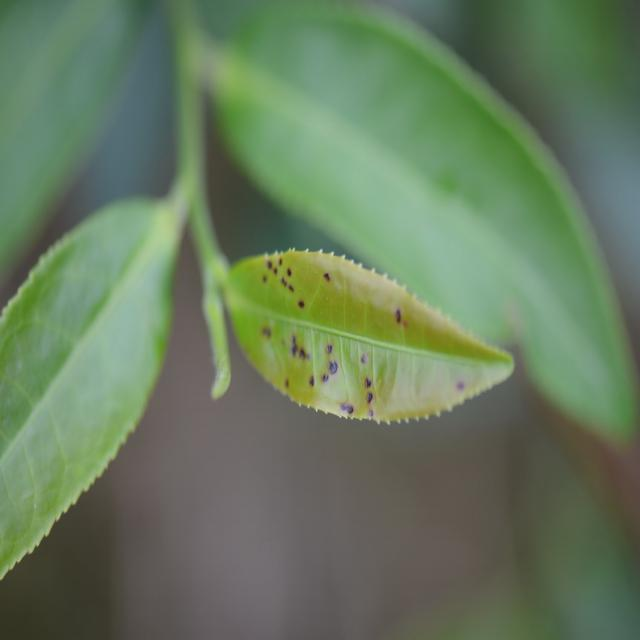Tea red scab: (250, 318, 475, 423), (254, 255, 407, 329)
